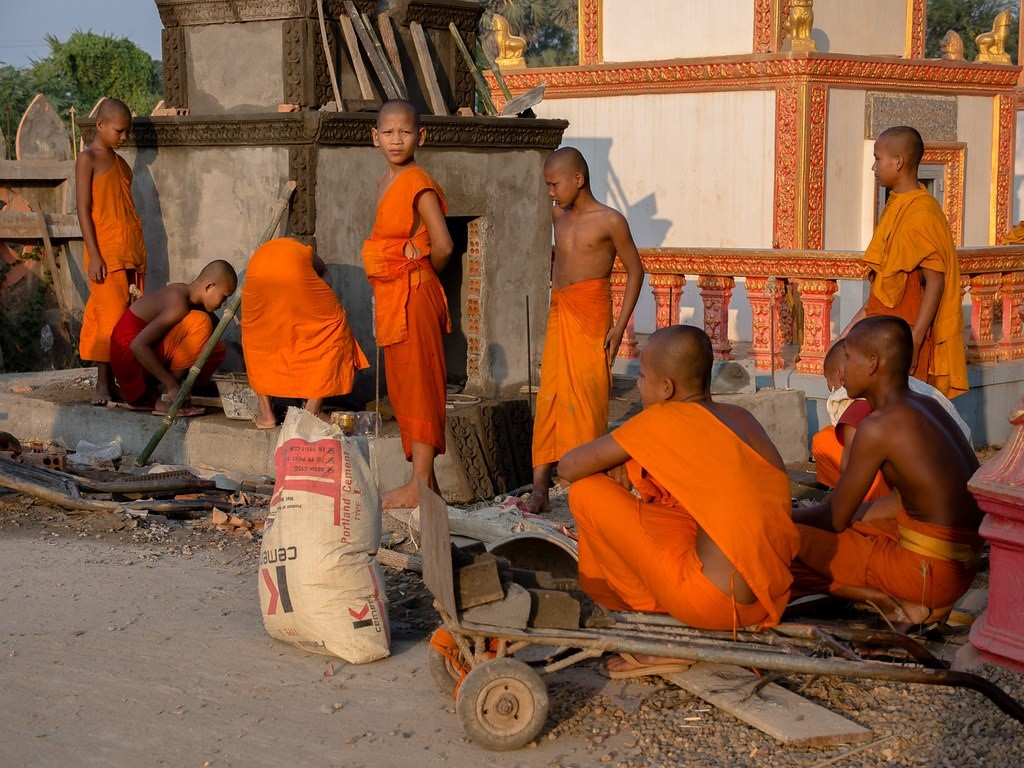face_no_mask: (637, 326, 716, 409), (838, 315, 914, 395), (368, 99, 429, 166), (869, 128, 924, 188), (541, 144, 589, 211), (192, 256, 237, 314), (91, 98, 133, 150)
